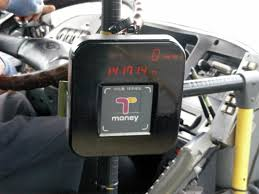terminal: (66, 34, 186, 158)
